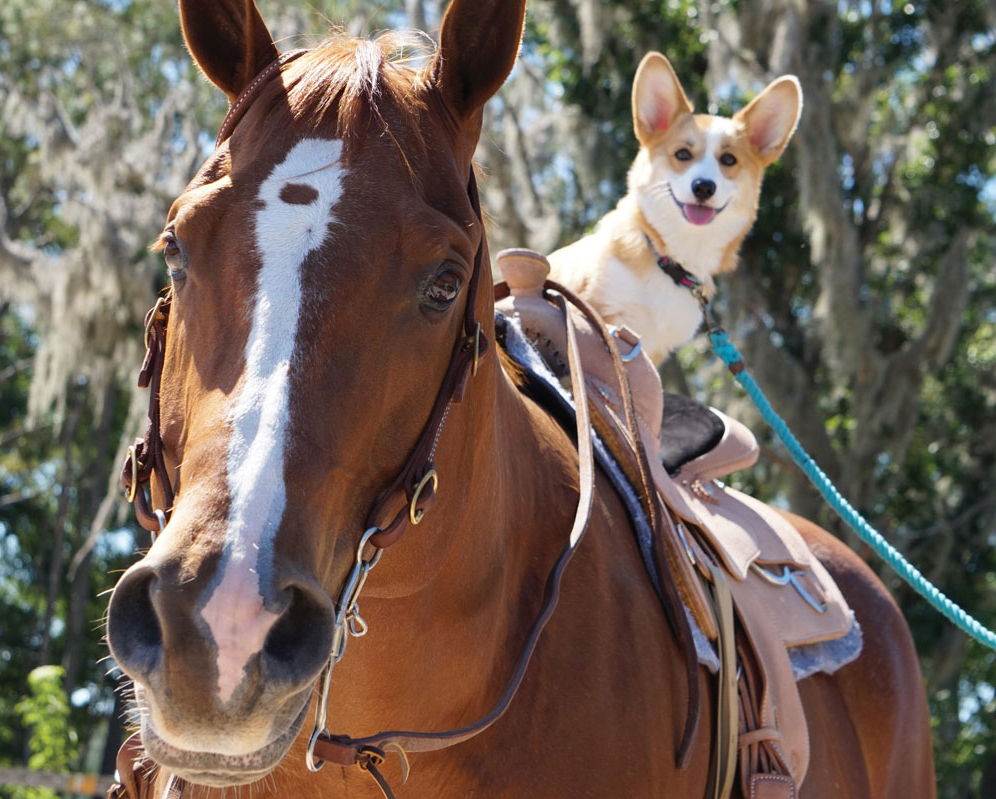Dog: (593, 48, 807, 378)
Horse: (130, 51, 936, 799)
